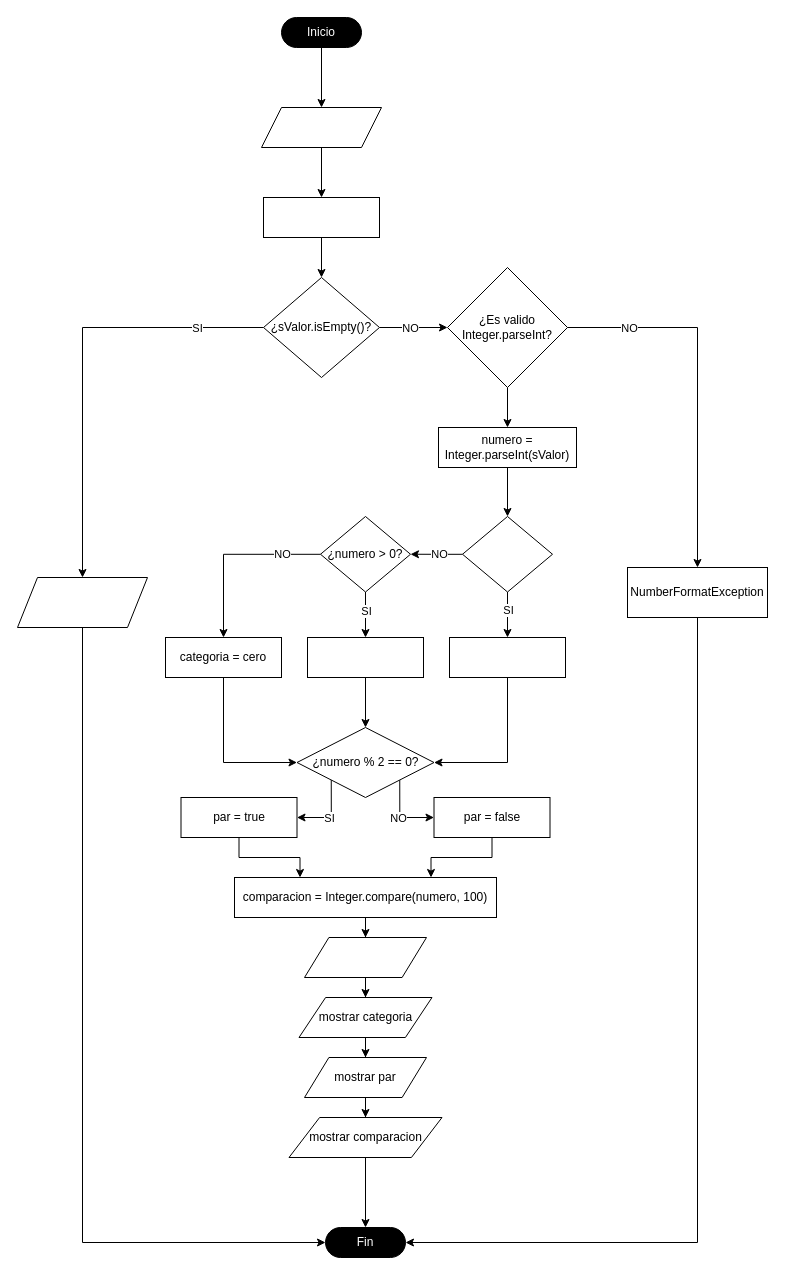
The diagram is 785 pixels wide and 1275 high, and some of its shapes have lost their labels. The centre of each missing label's shape, as x and y in pixels:
categoria = negativo: point 507,657
categoria = positivo: point 365,657
Leer sValor: point 321,127
mostrar "Error, valor vacio": point 82,602
mostrar numero: point 365,957
sValor.trim(): point 321,217
¿numero < 0?: point 507,554
